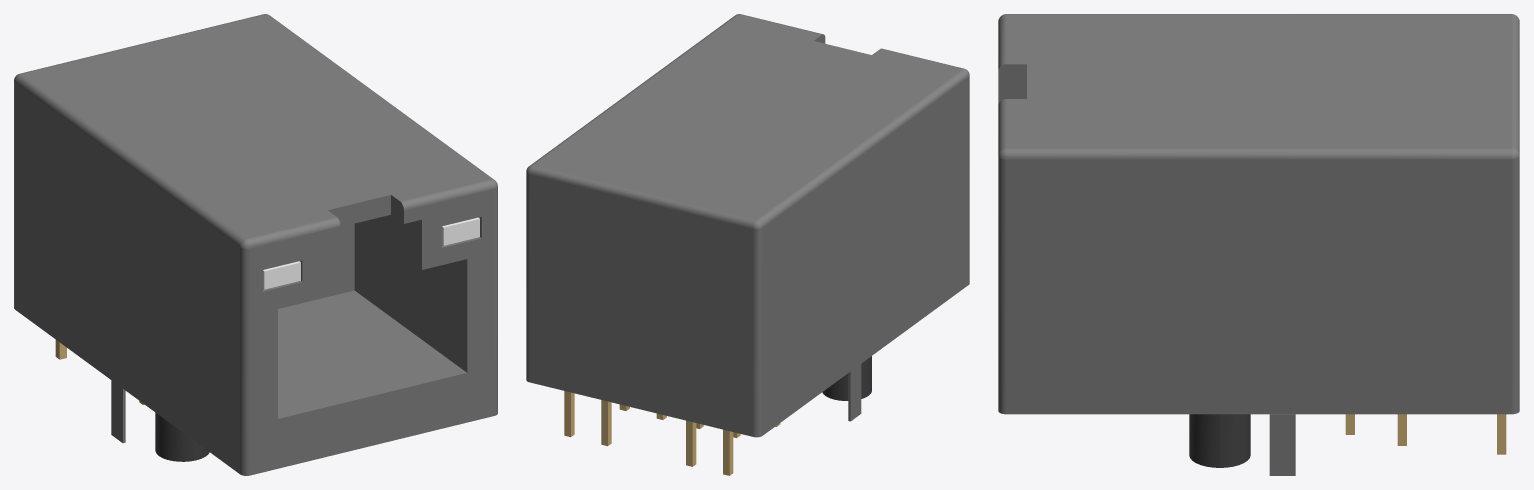
Rendered from kc-rj45_molex_9346520x_horizontal.glb.
3 views of the same model, side by side, from view 1: azimuth 30°, elevation 25°; view 2: azimuth 150°, elevation 25°; view 3: azimuth 270°, elevation 25° (orthographic). The views are drawn at different scales.
Visible parts, largest first — view 1: 0.25_0.25_0.25_0, 1_1_1_0.85, 0.08333333333333333_0.08333333333333333_0.08333333333333333_; view 2: 0.25_0.25_0.25_0, 0.75_0.5_0.25_0.9, 0.08333333333333333_0.08333333333333333_0.08333333333333333_; view 3: 0.25_0.25_0.25_0, 0.08333333333333333_0.08333333333333333_0.08333333333333333_, 0.75_0.5_0.25_0.9.
Part boxes in pixels (<box>): 0.25_0.25_0.25_0: <box>14,14,497,475</box>; 1_1_1_0.85: <box>263,217,479,289</box>; 0.08333333333333333_0.08333333333333333_0.08333333333333333_: <box>155,412,209,461</box>; 0.25_0.25_0.25_0: <box>526,14,969,437</box>; 0.75_0.5_0.25_0.9: <box>564,391,780,475</box>; 0.08333333333333333_0.08333333333333333_0.08333333333333333_: <box>822,356,871,400</box>; 0.25_0.25_0.25_0: <box>998,14,1519,475</box>; 0.08333333333333333_0.08333333333333333_0.08333333333333333_: <box>1189,414,1250,467</box>; 0.75_0.5_0.25_0.9: <box>1345,414,1506,454</box>.
Bounding box in the file's own units: 1.62 × 1.74 × 2.54.
